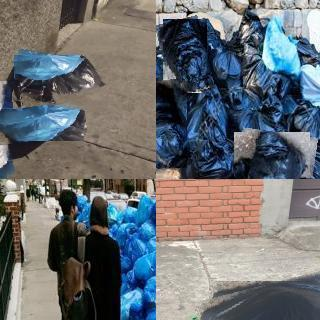Garbage: (201, 272, 320, 320), (0, 77, 85, 144), (181, 100, 253, 179), (13, 52, 108, 110), (230, 129, 314, 179), (225, 83, 289, 148), (159, 17, 211, 95), (260, 13, 306, 78), (156, 79, 189, 169), (286, 99, 320, 179), (206, 44, 245, 98), (297, 60, 320, 114), (129, 251, 156, 278), (114, 221, 139, 247), (127, 237, 152, 263), (133, 192, 153, 222), (143, 271, 156, 313)
